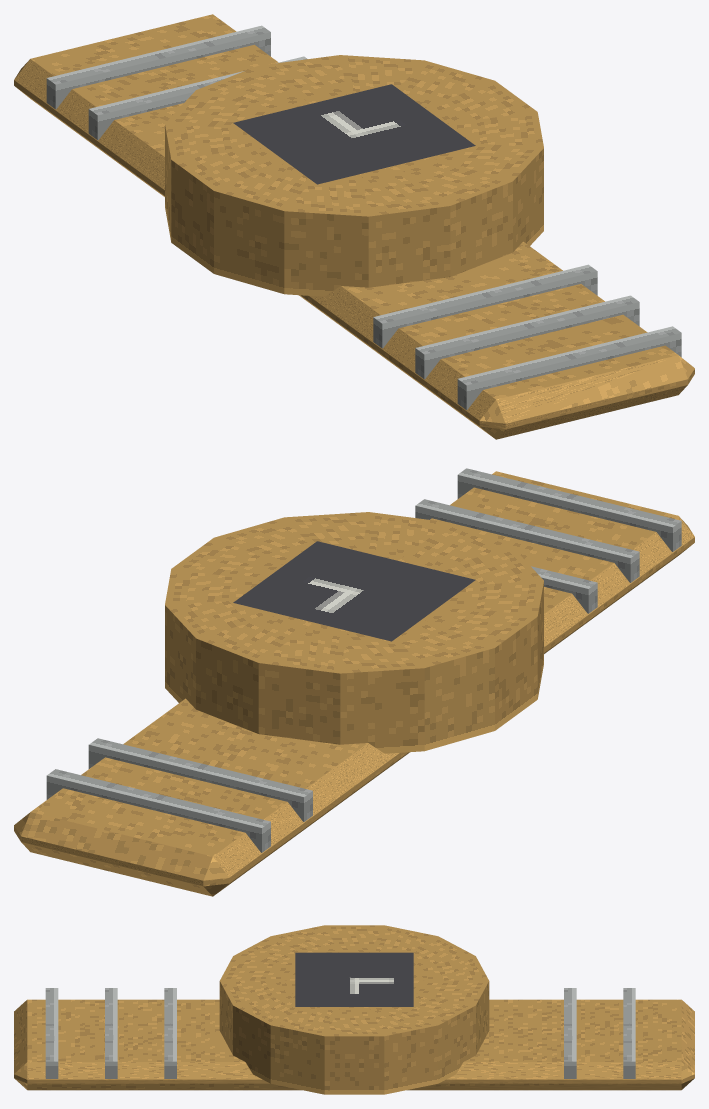
The model's file is gold_watch.glb.
3 views of the same model, one above another, from view 1: azimuth 30°, elevation 25°; view 2: azimuth 150°, elevation 25°; view 3: azimuth 270°, elevation 25° (orthographic). The views are drawn at different scales.
Visible parts, largest first — view 1: block_watch bezel, block_wrist strap, block_bracelet segment (×5), block_watch face; view 2: block_watch bezel, block_wrist strap, block_bracelet segment (×5), block_watch face; view 3: block_wrist strap, block_watch bezel, block_watch face, block_bracelet segment (×5).
Part boxes in pixels (x1=…): block_watch bezel: x1=165, y1=55, x2=543, y2=296; block_wrist strap: x1=14, y1=14, x2=694, y2=439; block_bracelet segment (×5): x1=46, y1=25, x2=681, y2=409; block_watch face: x1=233, y1=84, x2=475, y2=184; block_watch bezel: x1=165, y1=512, x2=543, y2=753; block_wrist strap: x1=14, y1=471, x2=694, y2=896; block_bracelet segment (×5): x1=46, y1=468, x2=681, y2=852; block_watch face: x1=233, y1=541, x2=475, y2=641; block_wrist strap: x1=14, y1=999, x2=694, y2=1090; block_watch bezel: x1=219, y1=925, x2=489, y2=1094; block_watch face: x1=295, y1=952, x2=413, y2=1006; block_bracelet segment (×5): x1=45, y1=988, x2=635, y2=1078.
Bounding box in the file's own units: 0.0501 × 0.0167 × 0.13.
Materials: 1 (1 with a texture image).
